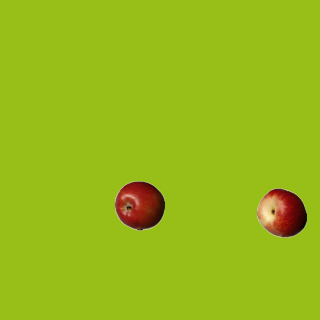Apple Braeburn: (114, 180, 164, 230)
Nectarine: (256, 187, 306, 237)
